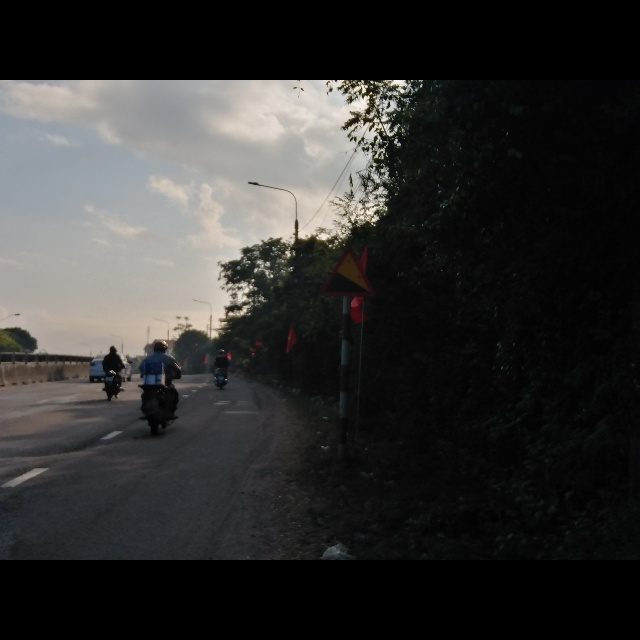Dốc lên nguy hiểm: (319, 245, 376, 299)
